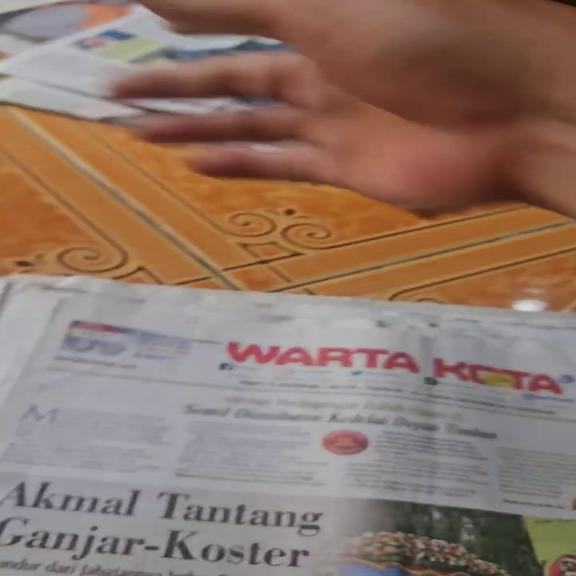Kertas: (1, 314, 576, 574)
